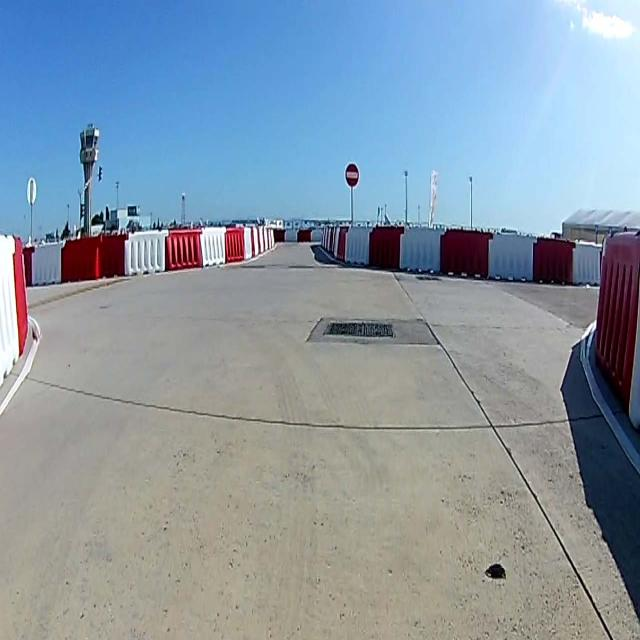girisyok: (345, 164, 359, 187)
